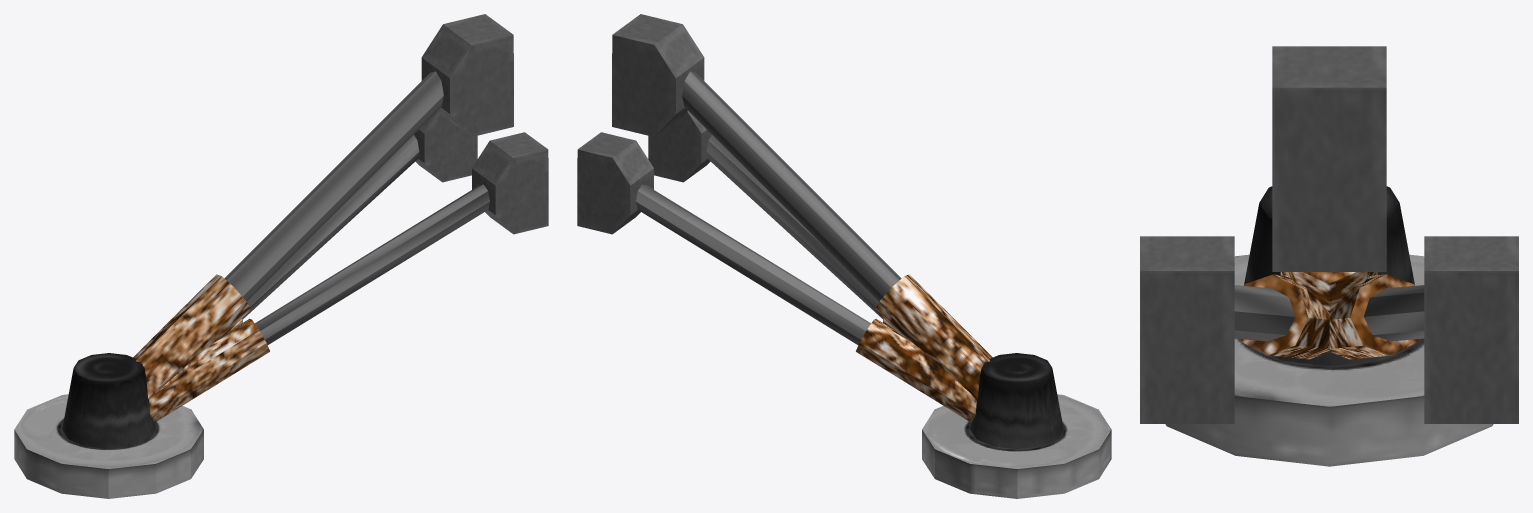
The model's file is probeleg.DAE.
3 renders of one model, left to right at view 1: azimuth 30°, elevation 25°; view 2: azimuth 150°, elevation 25°; view 3: azimuth 270°, elevation 25°, orthographic. The views are drawn at different scales.
Parts seen in each view (by area): view 1: Cylinder01; view 2: Cylinder01; view 3: Cylinder01.
Boxes of the visible parts, x1=… form: Cylinder01: x1=14, y1=14, x2=548, y2=498; Cylinder01: x1=577, y1=14, x2=1111, y2=498; Cylinder01: x1=1140, y1=46, x2=1518, y2=466.
Size of what is drawn, in the model's own units: 0.635 by 0.4347 by 0.2196.
